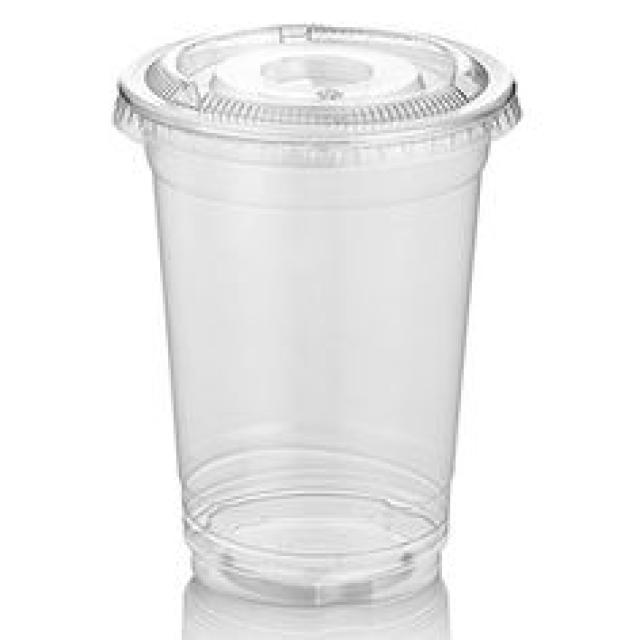bottle: (148, 139, 489, 604)
